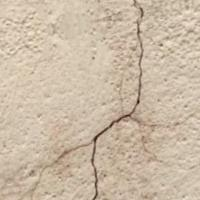crack: (57, 8, 162, 199)
